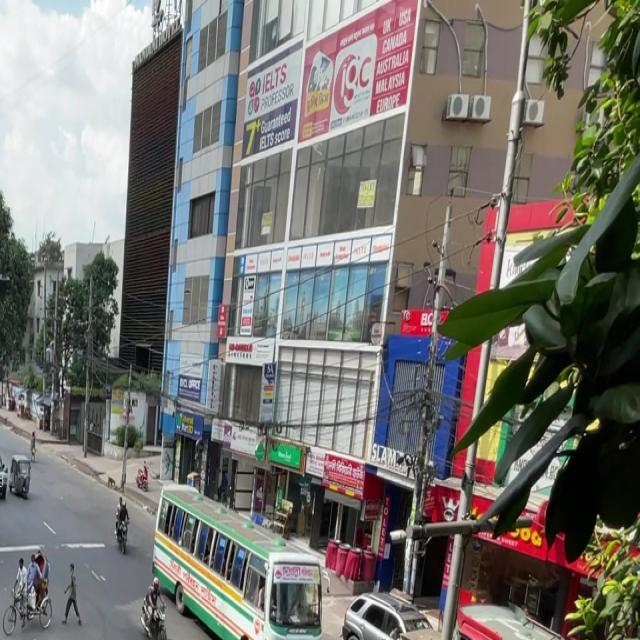bus: (152, 477, 326, 640)
car: (336, 584, 441, 640), (0, 448, 9, 503)
motorbike: (135, 576, 172, 640), (110, 496, 134, 559), (132, 465, 150, 499)
rickshaw: (6, 452, 33, 498)
